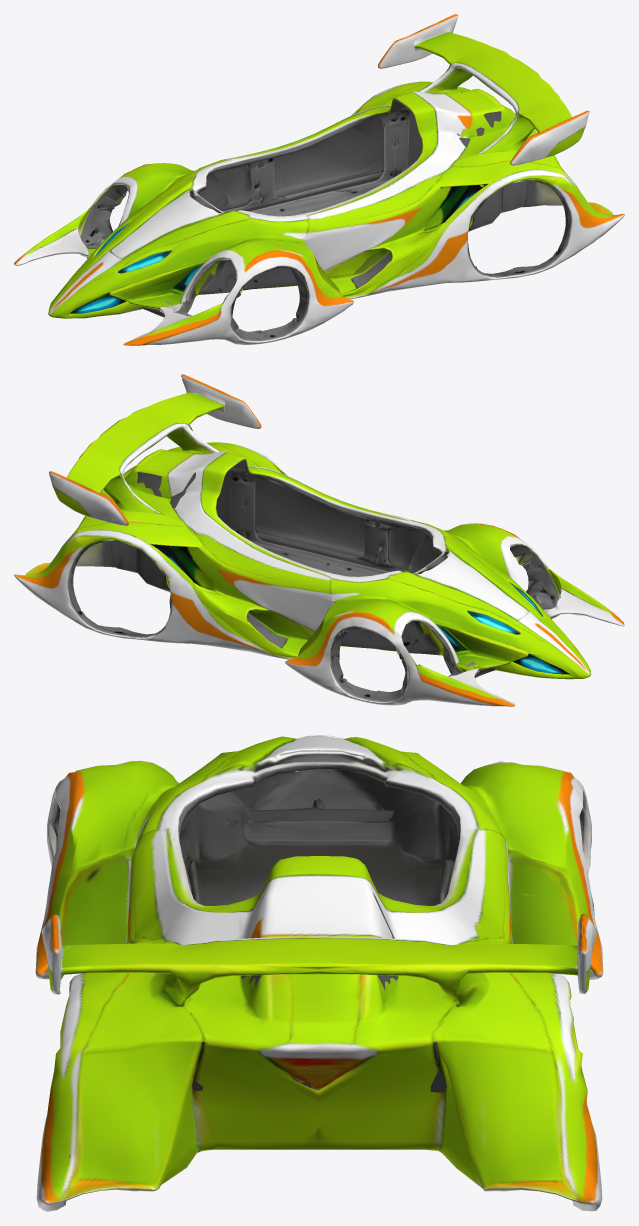
Rendered from gecko_velo.glb.
3 renders of one model, top to bottom at view 1: azimuth 30°, elevation 25°; view 2: azimuth 150°, elevation 25°; view 3: azimuth 270°, elevation 25°, orthographic. The views are drawn at different scales.
Visible parts, largest first — view 1: geometry_0; view 2: geometry_0; view 3: geometry_0.
Boxes of the visible parts, x1,y1,x2,y2 form: geometry_0: (14,14,624,345); geometry_0: (14,374,624,706); geometry_0: (35,735,603,1211).
Size of the model in its own units: 0.9541 by 0.2783 by 0.4624.
1 material, 1 textured.
